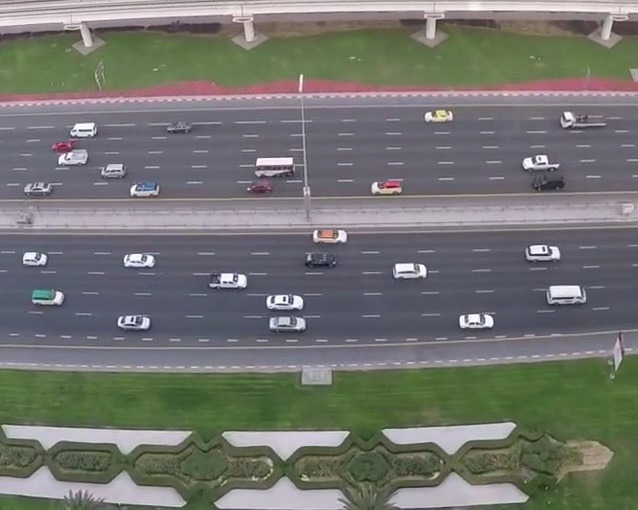V: (559, 107, 611, 132), (448, 309, 501, 333), (542, 284, 594, 308), (205, 270, 253, 295), (389, 259, 434, 284), (513, 150, 564, 172), (520, 240, 564, 264), (263, 289, 307, 313), (308, 222, 353, 245), (116, 250, 164, 271), (253, 157, 300, 178), (112, 312, 158, 333), (26, 285, 68, 308), (525, 170, 569, 191), (19, 243, 52, 271), (263, 313, 311, 332), (299, 253, 346, 272), (240, 179, 284, 197), (160, 116, 199, 136), (54, 146, 91, 166), (370, 176, 405, 197), (418, 107, 457, 125), (124, 180, 163, 197), (69, 121, 103, 140), (21, 175, 53, 194), (99, 162, 128, 179), (50, 136, 75, 152)
